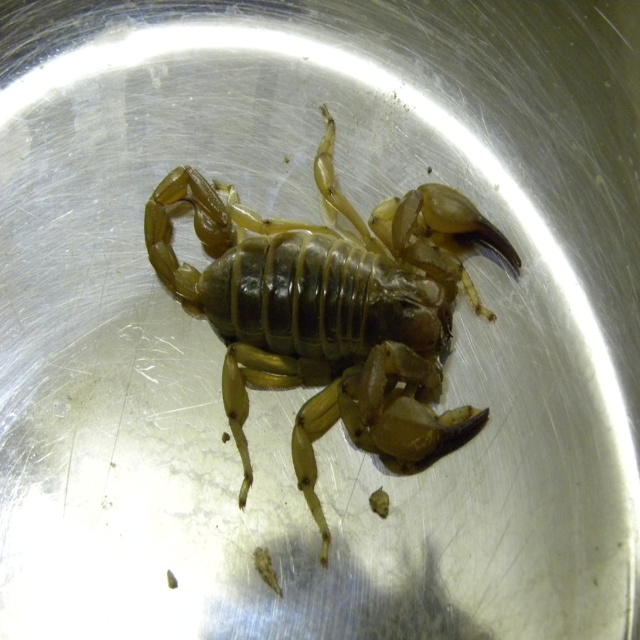Scorpion: (140, 101, 524, 565)
